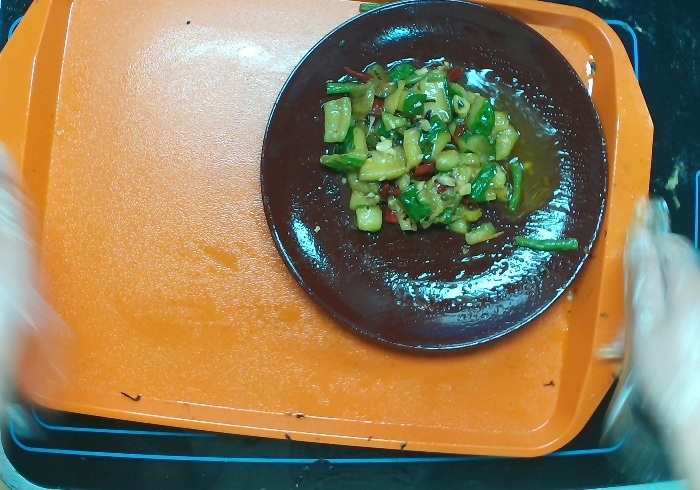HZYJPL-Ka_Fei_Yuan_Pan: (254, 1, 615, 361)
